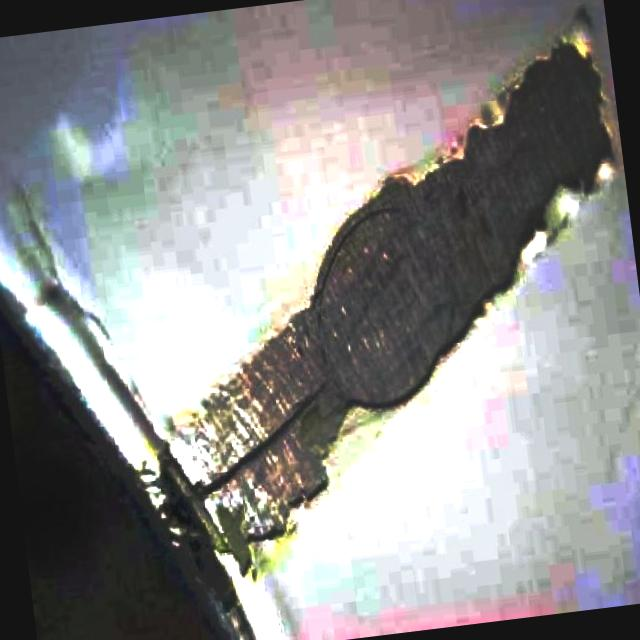crack: (195, 442, 277, 502), (262, 386, 328, 441)
